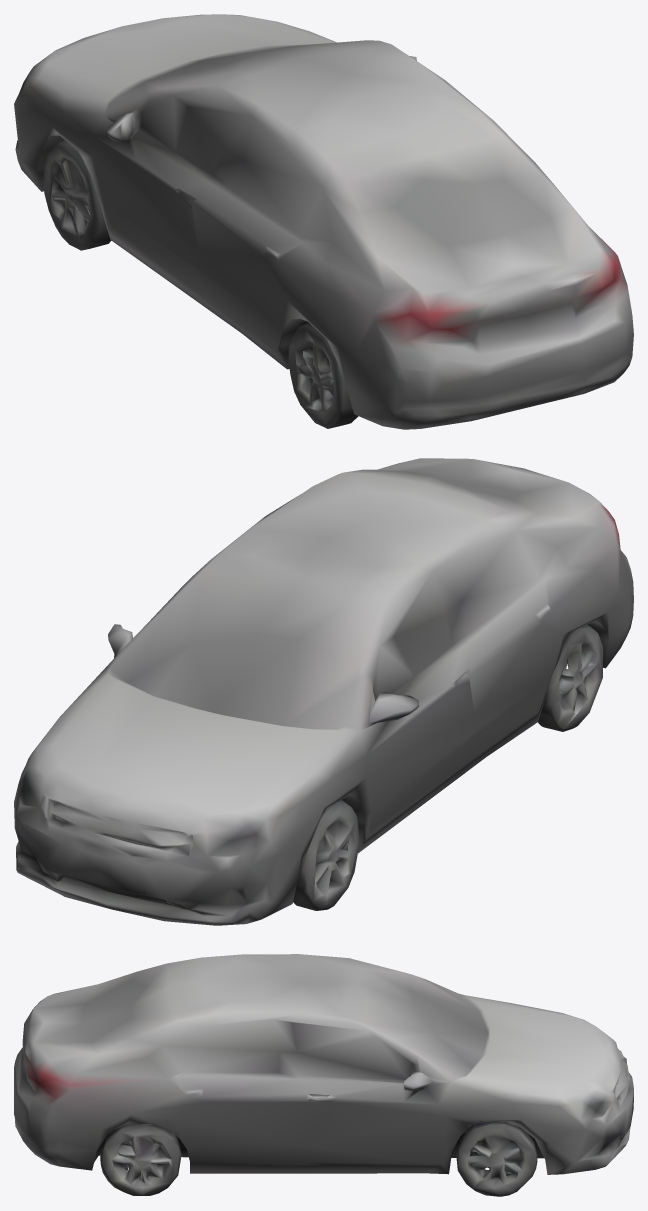
The model's file is sedan_near.glb.
3 renders of one model, top to bottom at view 1: azimuth 30°, elevation 25°; view 2: azimuth 150°, elevation 25°; view 3: azimuth 270°, elevation 25°, orthographic. The views are drawn at different scales.
Parts seen in each view (by area): view 1: sedan; view 2: sedan; view 3: sedan.
Part boxes in pixels (x1,y1,x2,y2): sedan: (14, 14, 633, 429); sedan: (14, 458, 633, 925); sedan: (14, 954, 633, 1196).
Size of the model in its own units: 1.35 by 1 by 3.24.
